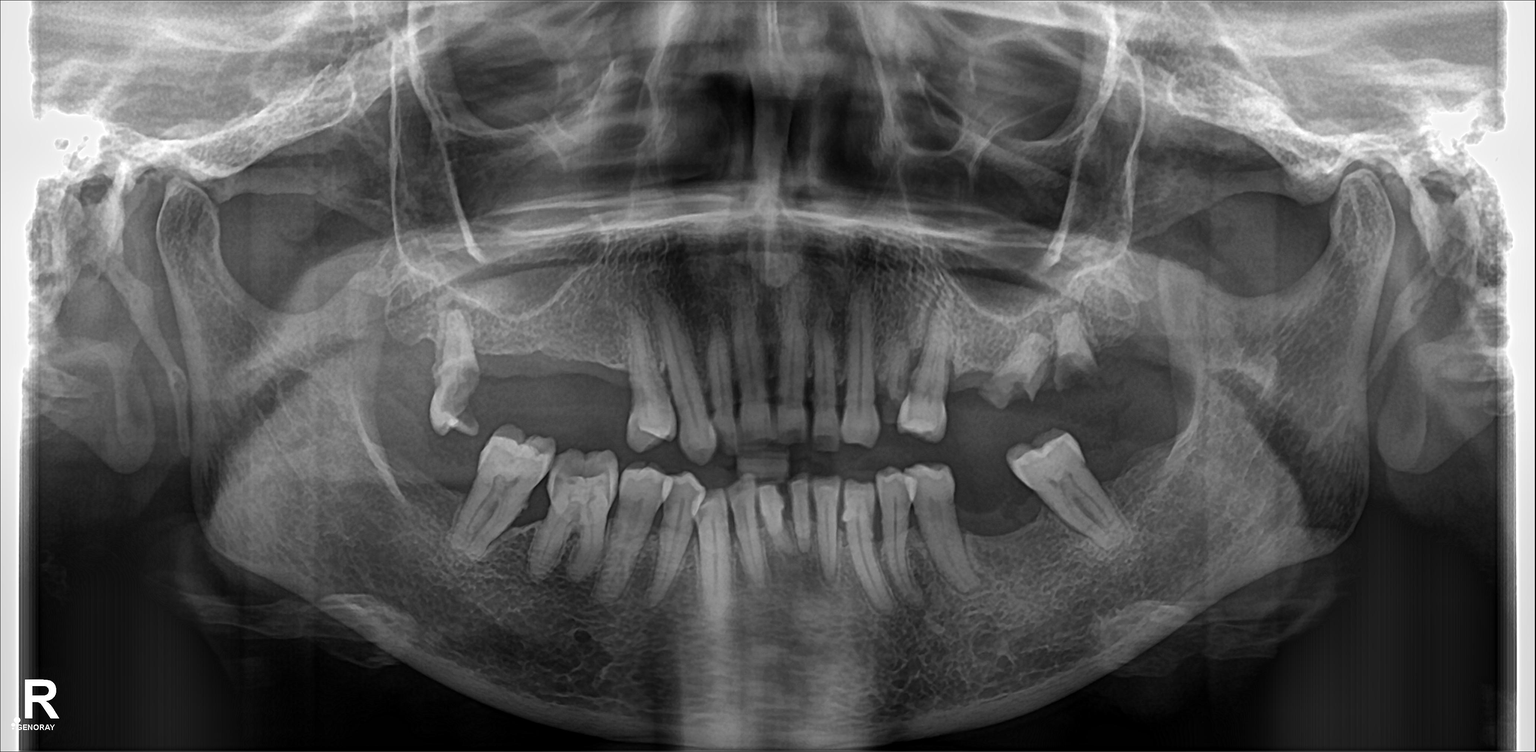Dental Caries: (449, 359, 477, 423)
Missing Tooth: (961, 460, 1024, 572), (1088, 426, 1153, 529), (1162, 411, 1211, 529), (365, 419, 408, 551), (385, 298, 426, 429), (1112, 289, 1162, 389), (568, 322, 614, 428), (419, 436, 459, 554), (959, 328, 994, 416), (484, 329, 514, 426), (533, 324, 559, 425)
Retained Root: (1045, 311, 1102, 393), (875, 302, 909, 425), (1004, 329, 1044, 410)
